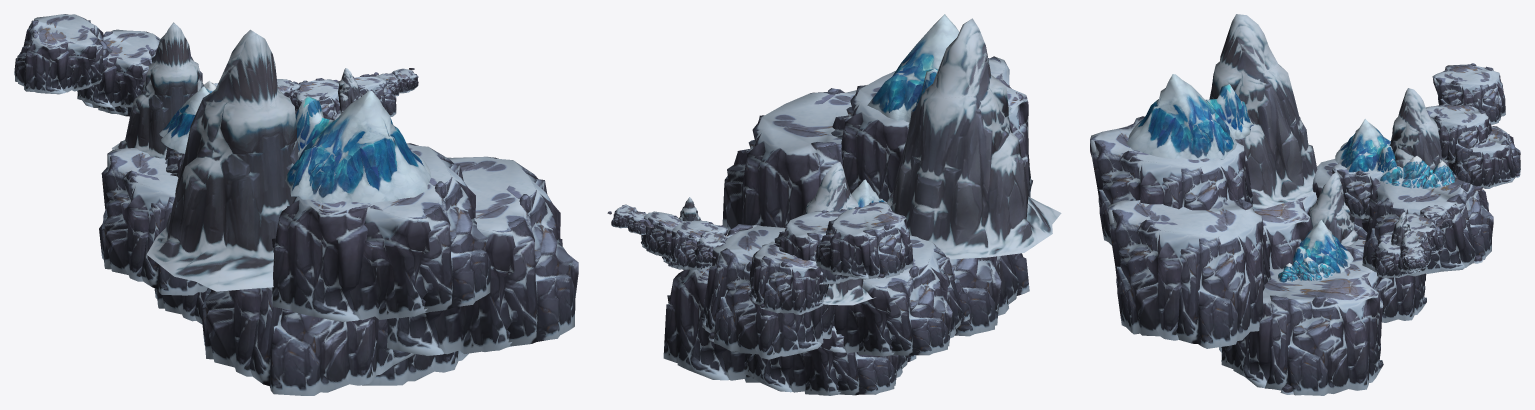
The model's file is yanshi9_1.fbx.
The picture shows the model from 3 angles, left to right: view 1: azimuth 30°, elevation 25°; view 2: azimuth 150°, elevation 25°; view 3: azimuth 270°, elevation 25°; orthographic projection. The views are drawn at different scales.
Visible parts, largest first — view 1: yanshi9_1; view 2: yanshi9_1; view 3: yanshi9_1.
Part boxes in pixels (x1,y1,x2,y2): yanshi9_1: (14,14,578,395); yanshi9_1: (607,14,1061,395); yanshi9_1: (1090,14,1520,395).
Size of the model in its own units: 6121 by 5850 by 8099.
